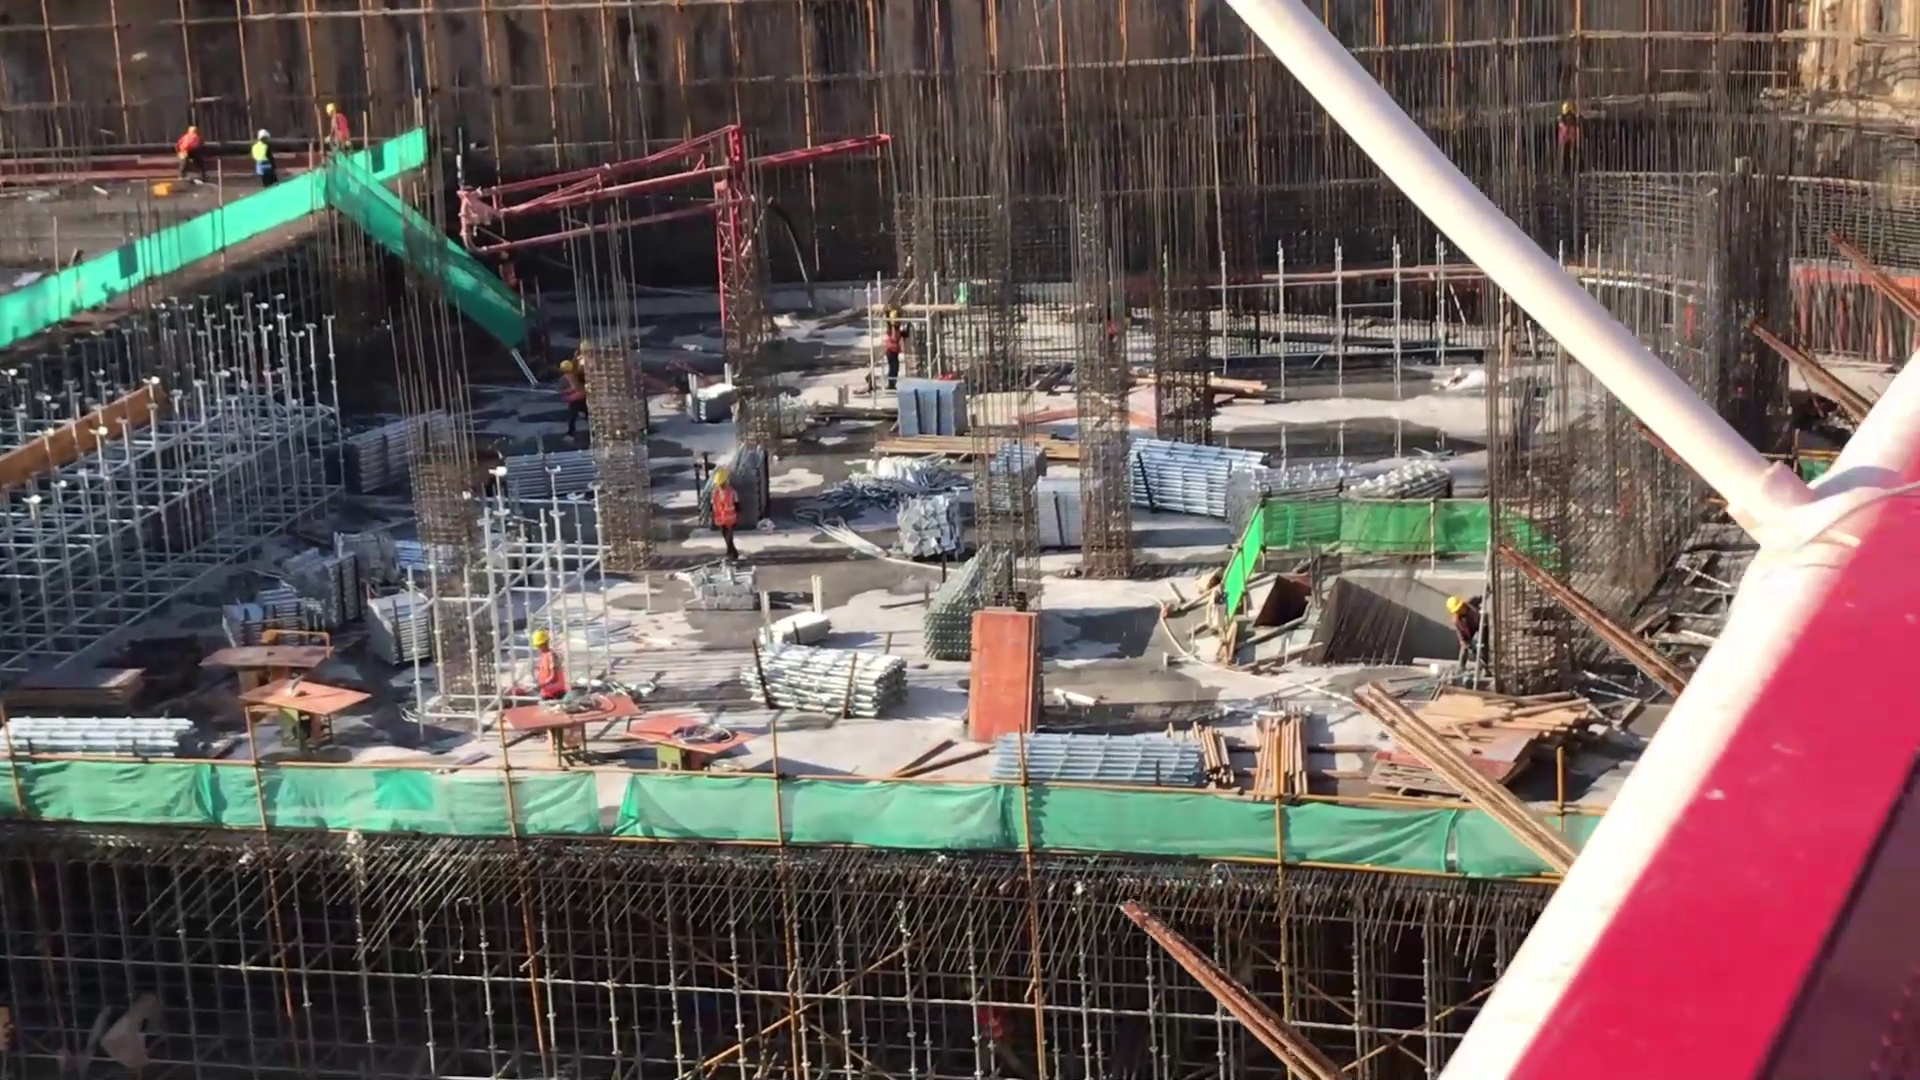helmet: (529, 627, 564, 667), (554, 355, 579, 379), (1442, 595, 1468, 619), (709, 466, 732, 491), (880, 305, 904, 326), (251, 122, 272, 143), (318, 97, 339, 118)
person: (704, 465, 750, 565), (1442, 592, 1496, 677), (521, 629, 572, 702), (552, 353, 594, 437), (874, 306, 911, 395), (164, 121, 218, 181), (321, 95, 363, 169), (245, 128, 291, 189)
vest: (528, 654, 561, 693), (712, 487, 739, 531), (555, 373, 584, 411), (172, 135, 202, 170), (247, 143, 274, 169)
